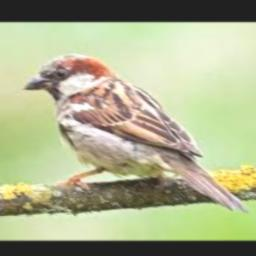Sparrow: (22, 54, 247, 212)
